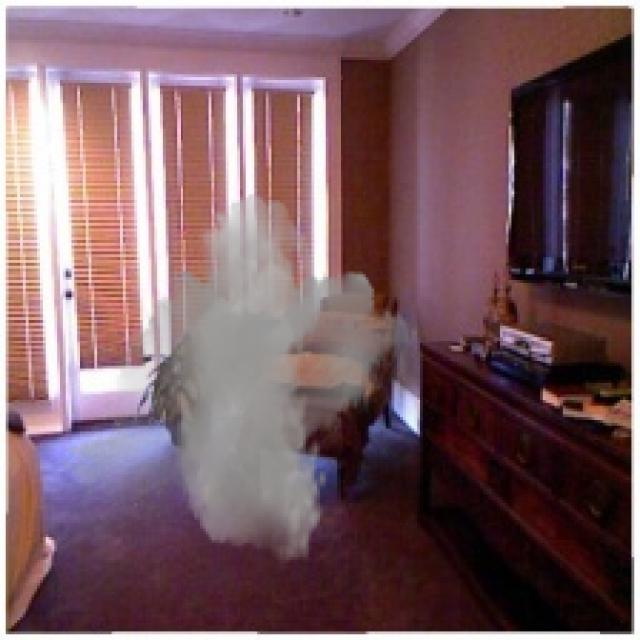smoke: (60, 194, 420, 563)
